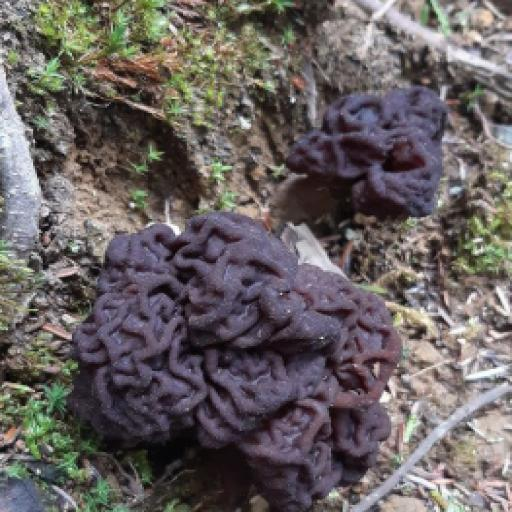mushroom: (307, 68, 454, 215), (0, 0, 1, 1)
